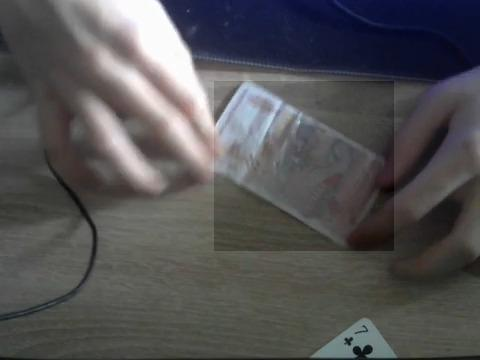5leva: (214, 81, 394, 251)
